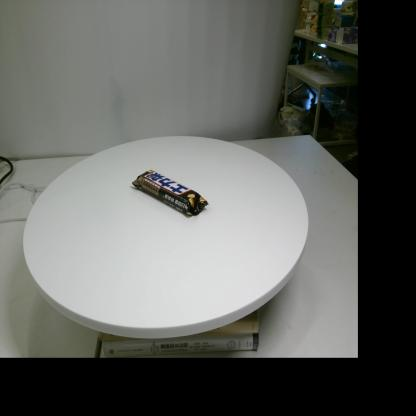Chocolate: (132, 170, 209, 216)
